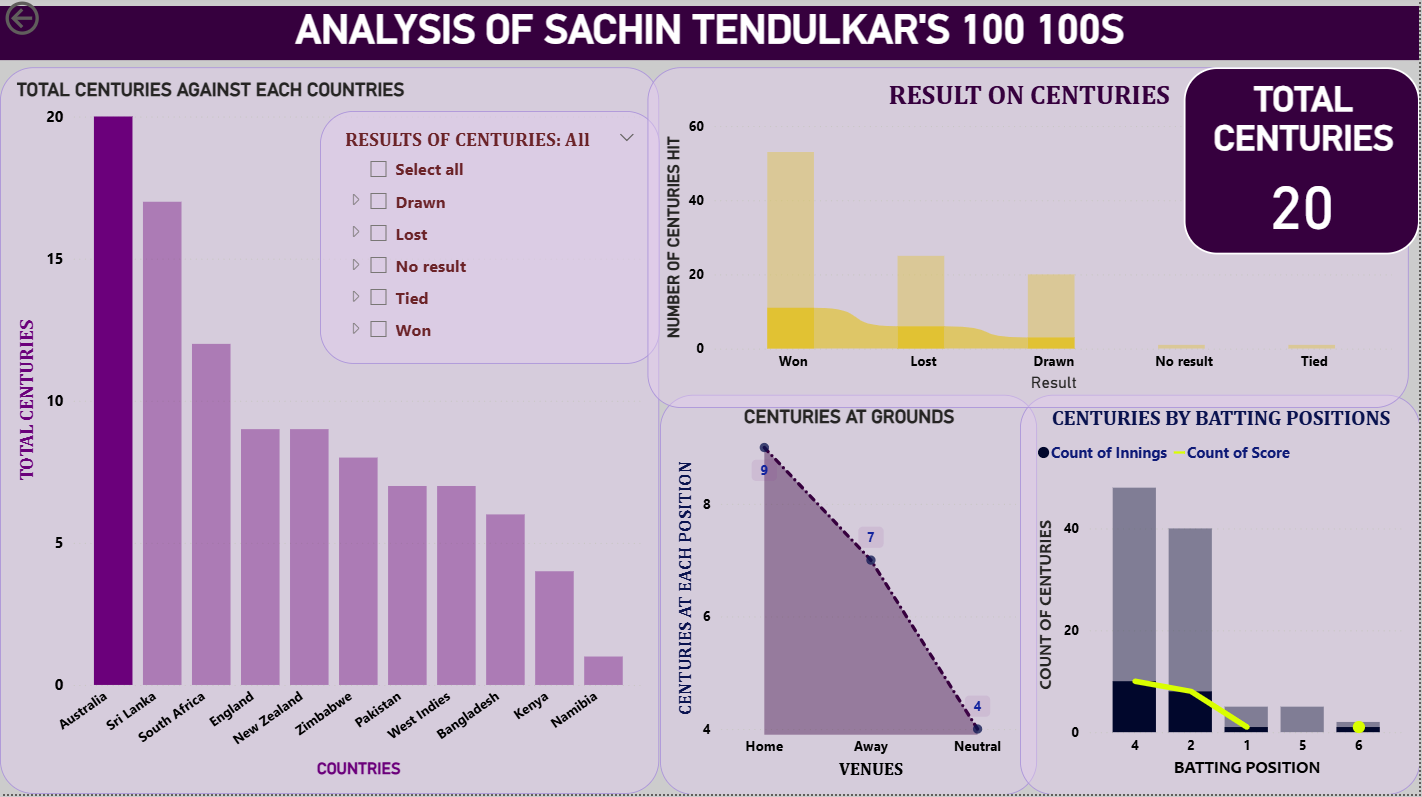

Layout of this report page (visuals, bound fields, positions):
{"tool":"powerbi","page":{"name":"Page 1","canvas":[1280,720],"ordinal":0},"visuals":[{"type":"clusteredColumnChart","title":"TOTAL CENTURIES AGAINST EACH COUNTRIES","fields":{"Category":["Sachin-Tendulkar-All-International-Cricket-Centuries.Against"],"Y":["Sachin-Tendulkar-All-International-Cricket-Centuries.Score"]},"box":[0,64.7,594.6,655.6],"z":0},{"type":"areaChart","title":"CENTURIES AT GROUNDS","fields":{"Category":["Sachin-Tendulkar-All-International-Cricket-Centuries.Ground"],"Y":["Sachin-Tendulkar-All-International-Cricket-Centuries.Score"]},"box":[594.6,359.5,339.6,360.7],"z":1000},{"type":"slicer","fields":{"Values":["Sachin-Tendulkar-All-International-Cricket-Centuries.Result","Sachin-Tendulkar-All-International-Cricket-Centuries.Against","Sachin-Tendulkar-All-International-Cricket-Centuries.Score"]},"box":[288.6,103.2,306,227.6],"z":2000},{"type":"lineClusteredColumnComboChart","title":"CENTURIES BY BATTING POSITIONS","fields":{"Category":["Sachin-Tendulkar-All-International-Cricket-Centuries.Position"],"Y2":["Sachin-Tendulkar-All-International-Cricket-Centuries.Score"],"Y":["Sachin-Tendulkar-All-International-Cricket-Centuries.Innings"]},"box":[919.3,359.5,360.7,360.7],"z":3000},{"type":"ribbonChart","title":"RESULT ON CENTURIES","fields":{"Category":["Sachin-Tendulkar-All-International-Cricket-Centuries.Result"],"Y":["Sachin-Tendulkar-All-International-Cricket-Centuries.Score"]},"box":[583.4,64.7,686.7,307.3],"z":4000},{"type":"textbox","title":"ANALYSIS OF SACHIN TENDULKAR''S 100 100S","box":[0,8.7,1280,48.5],"z":5000},{"type":"card","title":"TOTAL CENTURIES","fields":{"Values":["Sachin-Tendulkar-All-International-Cricket-Centuries.Score"]},"box":[1067.4,64.2,213,169.1],"z":6000},{"type":"actionButton","box":[0,0,100,40],"z":7000}]}

Visuals, with their boxes on the page's 1280x720 design canvas (x1, y1, x2, y2). These are canvas units, not pixel positions in the 1422x797 screenshot, which may show the page scaled, cropped or inside an application window:
"TOTAL CENTURIES AGAINST EACH COUNTRIES" clusteredColumnChart: [0, 65, 595, 720]
"CENTURIES AT GROUNDS" areaChart: [595, 360, 934, 720]
slicer - Sachin-Tendulkar-All-International-Cricket-Centuries.Result x Sachin-Tendulkar-All-International-Cricket-Centuries.Against: [289, 103, 595, 331]
"CENTURIES BY BATTING POSITIONS" lineClusteredColumnComboChart: [919, 360, 1280, 720]
"RESULT ON CENTURIES" ribbonChart: [583, 65, 1270, 372]
"ANALYSIS OF SACHIN TENDULKAR''S 100 100S" textbox: [0, 9, 1280, 57]
"TOTAL CENTURIES" card: [1067, 64, 1280, 233]
actionButton: [0, 0, 100, 40]
